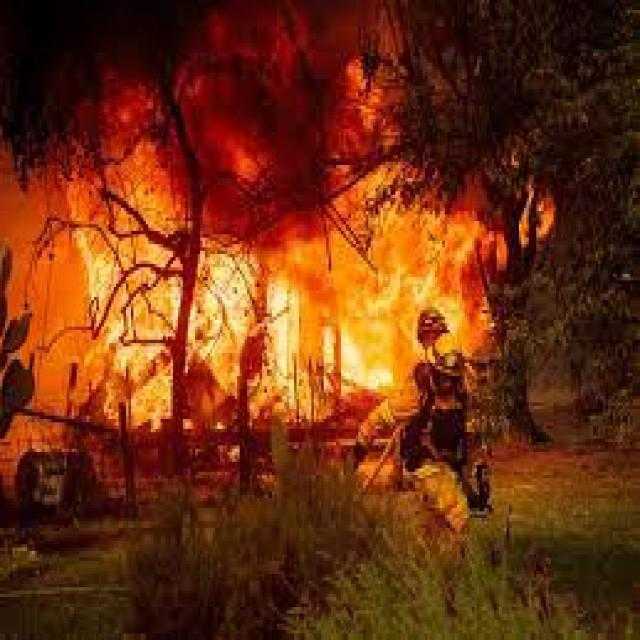Fire: (79, 13, 417, 201), (72, 210, 214, 420), (212, 267, 422, 387), (343, 185, 530, 300)
